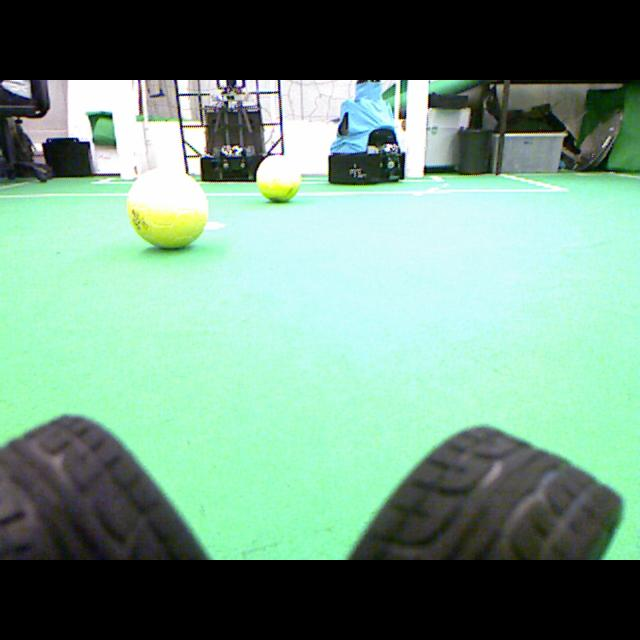ball: (126, 167, 209, 249), (256, 156, 302, 203)
goal: (109, 80, 137, 179), (405, 80, 429, 178)
